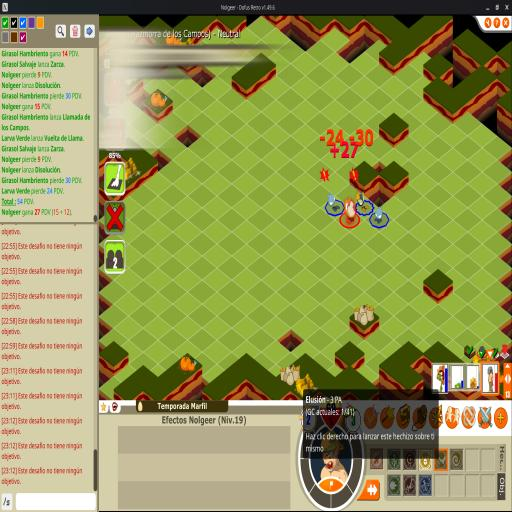Enemigos: (354, 190, 371, 213), (326, 191, 341, 213), (374, 205, 384, 224)
Personaje: (344, 196, 358, 224)
